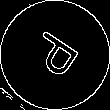P_SE: (24, 25, 86, 85)
